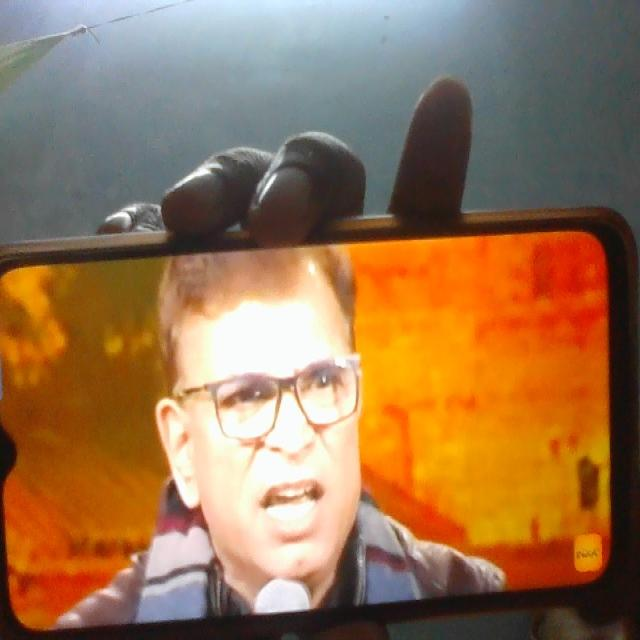fake: (158, 197, 378, 614)
